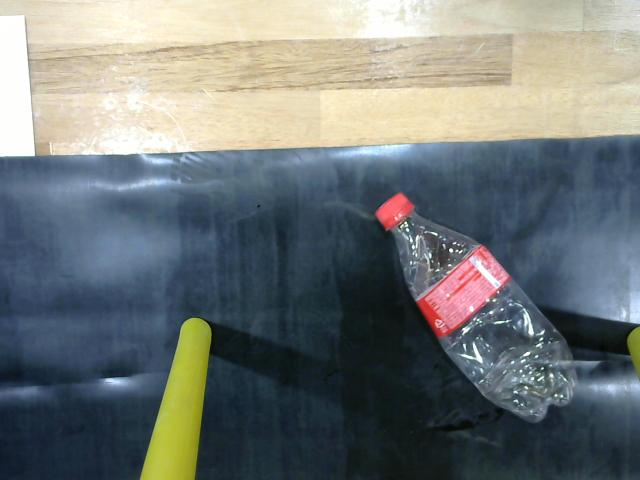bottle: (365, 179, 589, 429)
